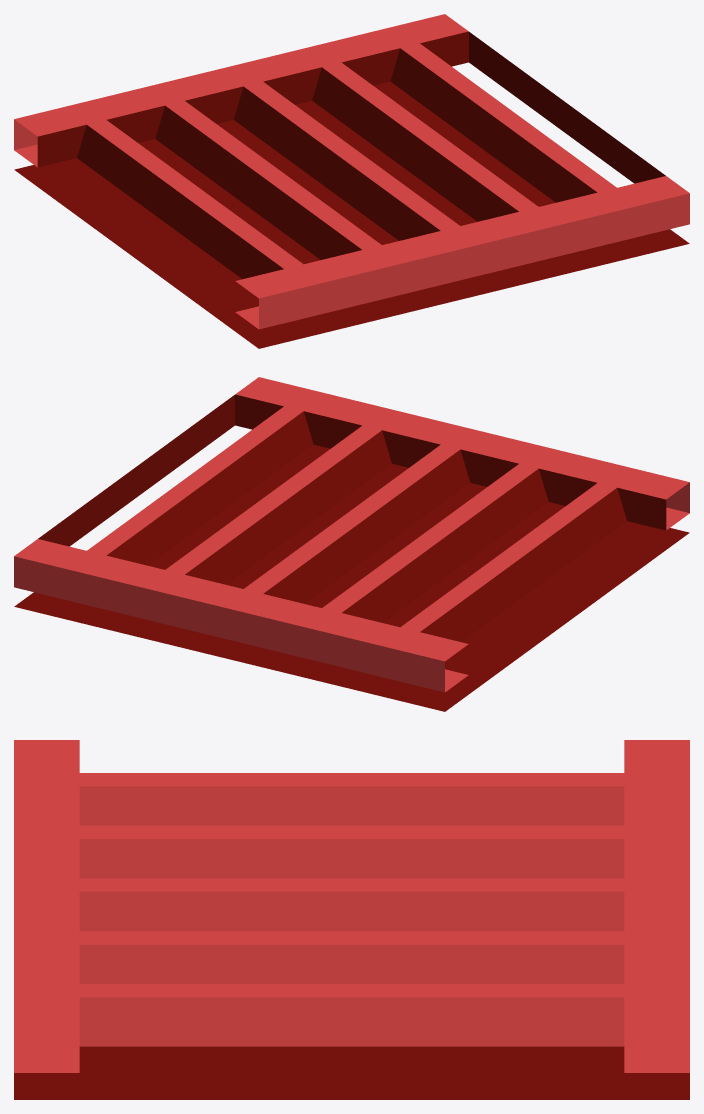
File: Fire_Floor_T1_InActive.fbx
3 renders of one model, top to bottom at view 1: azimuth 30°, elevation 25°; view 2: azimuth 150°, elevation 25°; view 3: azimuth 270°, elevation 25°, orthographic. The views are drawn at different scales.
Visible parts, largest first — view 1: Fire_Floor_T1_InActive; view 2: Fire_Floor_T1_InActive; view 3: Fire_Floor_T1_InActive.
Part boxes in pixels (x1,y1,x2,y2): Fire_Floor_T1_InActive: (14,14,689,348); Fire_Floor_T1_InActive: (14,377,689,711); Fire_Floor_T1_InActive: (14,740,689,1099).
Size of the model in its own units: 0.9677 by 0.9524 by 0.1083.
